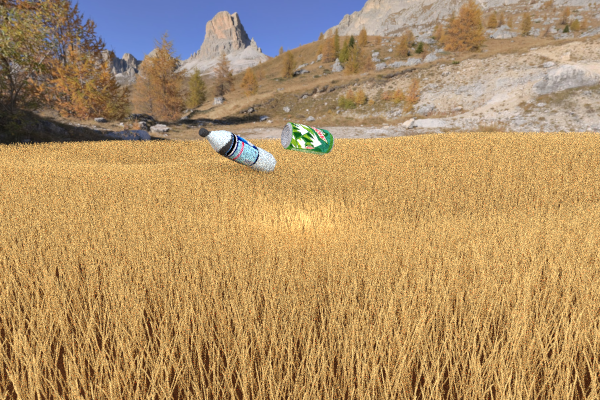bottle: (198, 127, 276, 173)
can: (179, 114, 237, 171), (280, 122, 334, 155)
